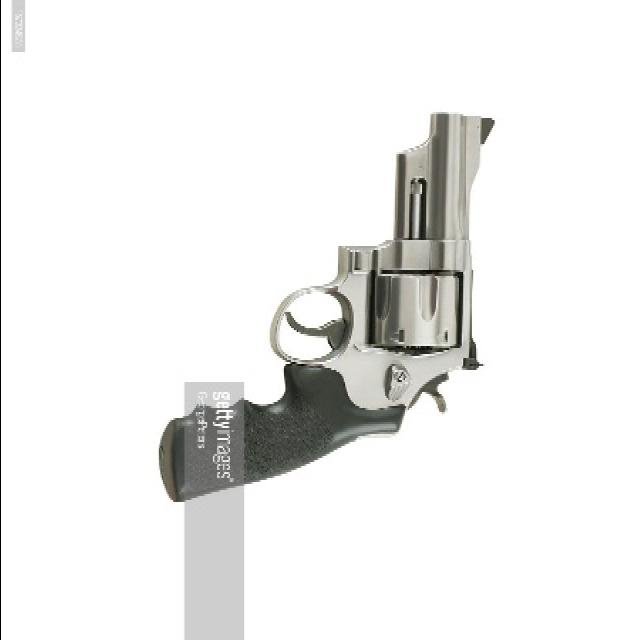handgun: (162, 89, 506, 515)
